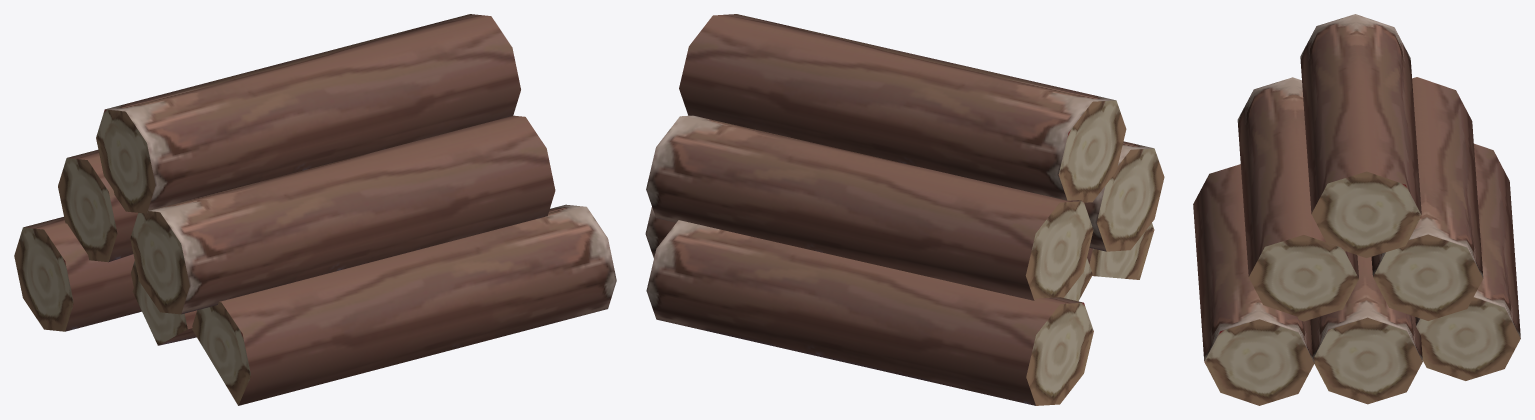
File: Map_04_wooden02.FBX
3 views of the same model, side by side, from view 1: azimuth 30°, elevation 25°; view 2: azimuth 150°, elevation 25°; view 3: azimuth 270°, elevation 25° (orthographic). The views are drawn at different scales.
Parts seen in each view (by area): view 1: Map_04_wooden02; view 2: Map_04_wooden02; view 3: Map_04_wooden02.
Boxes of the visible parts, box(x1,y1,x2,y2) form: Map_04_wooden02: box(14, 14, 616, 405); Map_04_wooden02: box(645, 14, 1164, 405); Map_04_wooden02: box(1193, 14, 1520, 405).
Bounding box in the file's own units: 38.72 × 21.61 × 29.16.
Materials: 1 (1 with a texture image).
